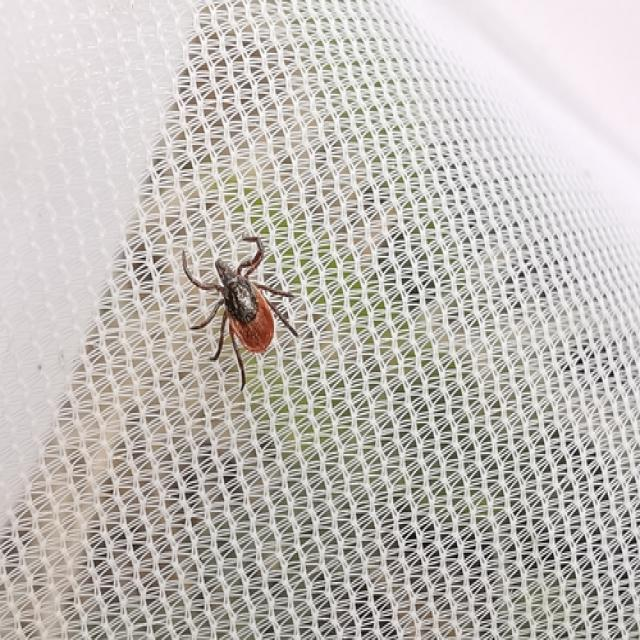Ixodes Ricinus-F: (182, 237, 300, 393)
